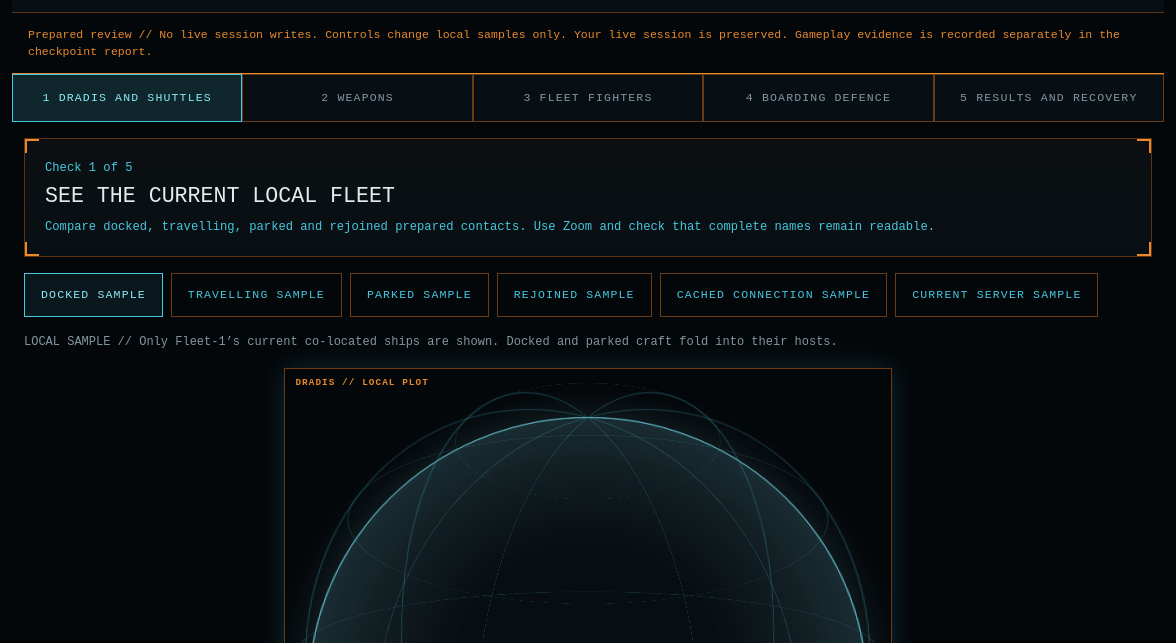
Test case: uses the real range presenter for local use, target assignment and damaged-action denial
Click the button "2 Weapons" at [358, 98], box [242,74,473,122]
(page scrolled)
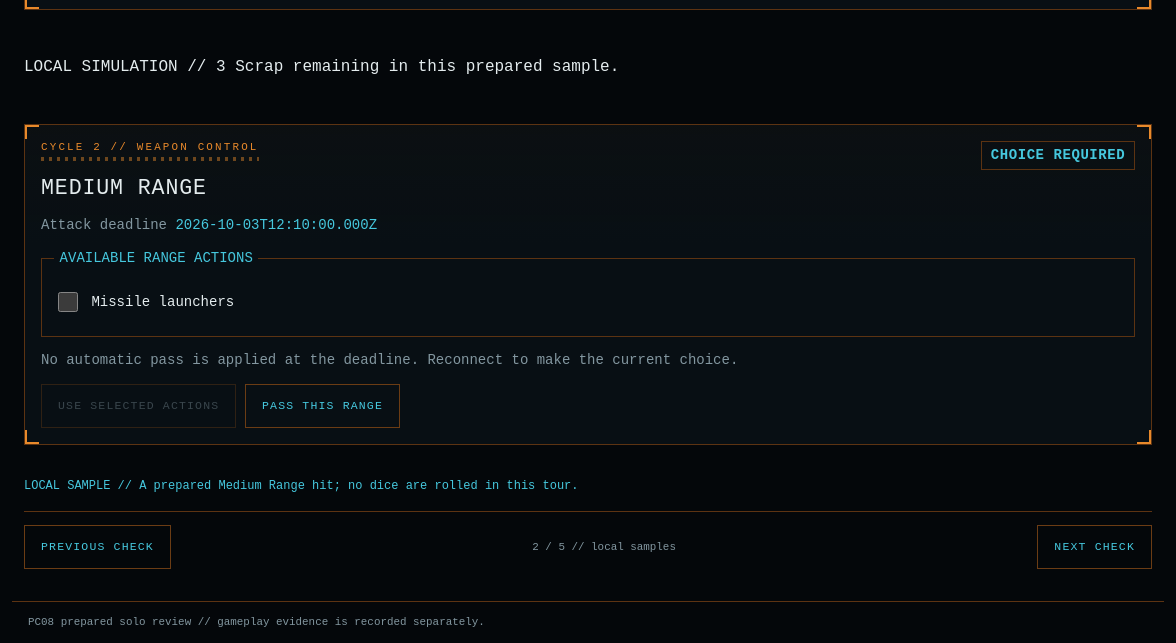
Click the checkbox labelled "Missile launchers" at [68, 302], box [58,292,78,312]
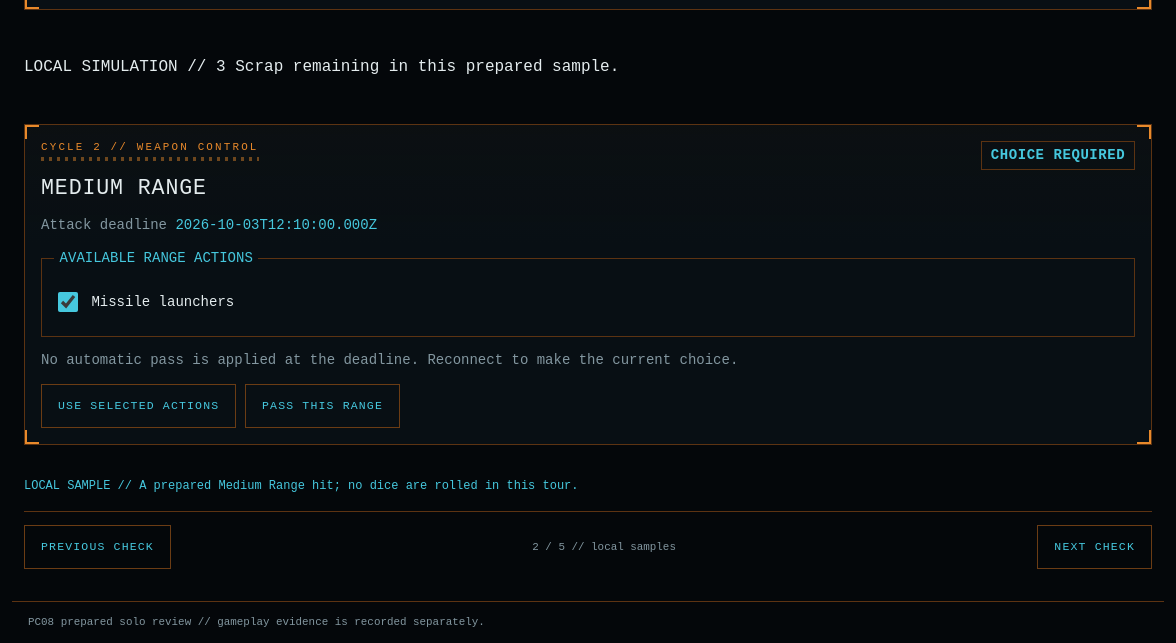
Click the button "Use selected actions" at [139, 406], box [41,384,236,428]
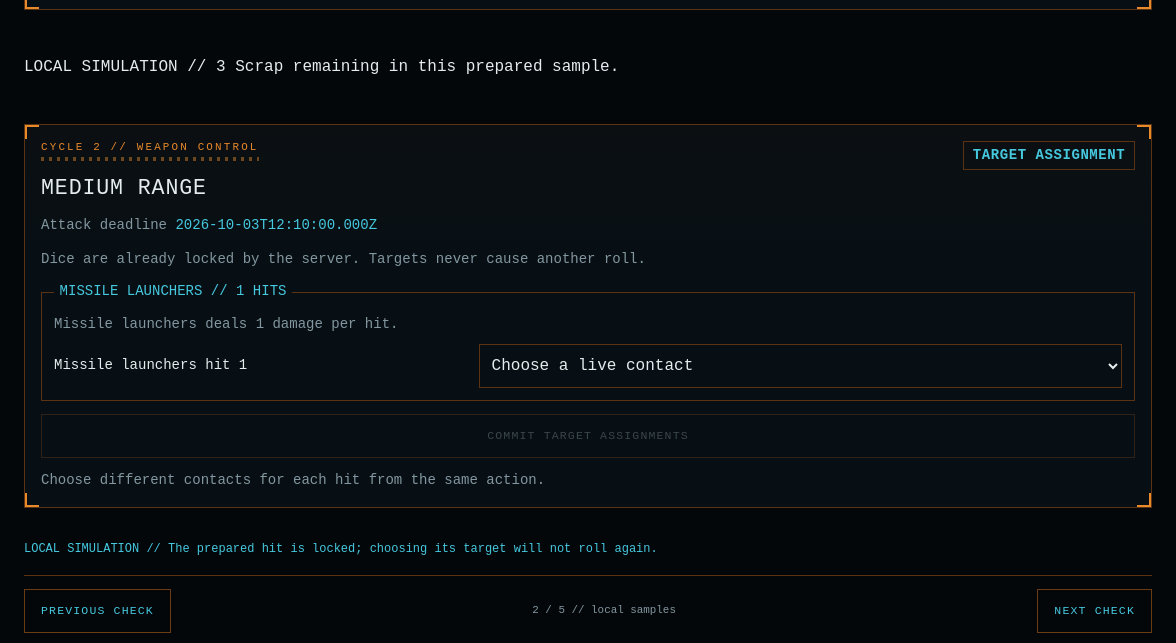
Select "local-contact-1 — AEGIS" in the dropdown labelled "Missile launchers hit 1" at [800, 366], box [479,344,1122,388]
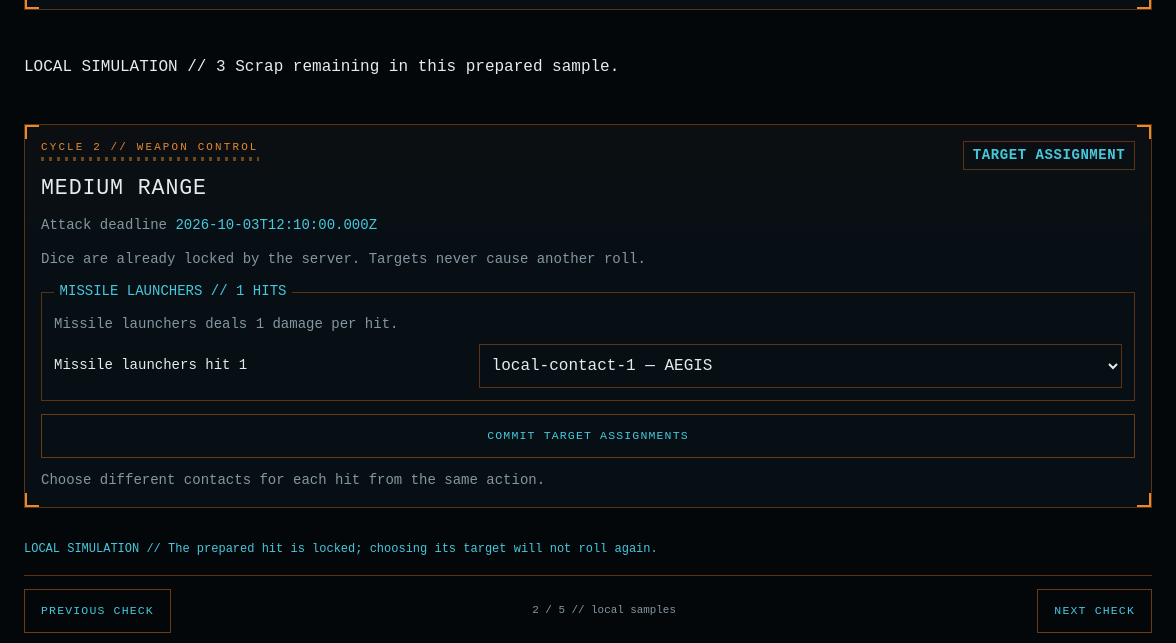
Click the button "Commit target assignments" at [588, 436], box [41,414,1135,458]
(page scrolled)
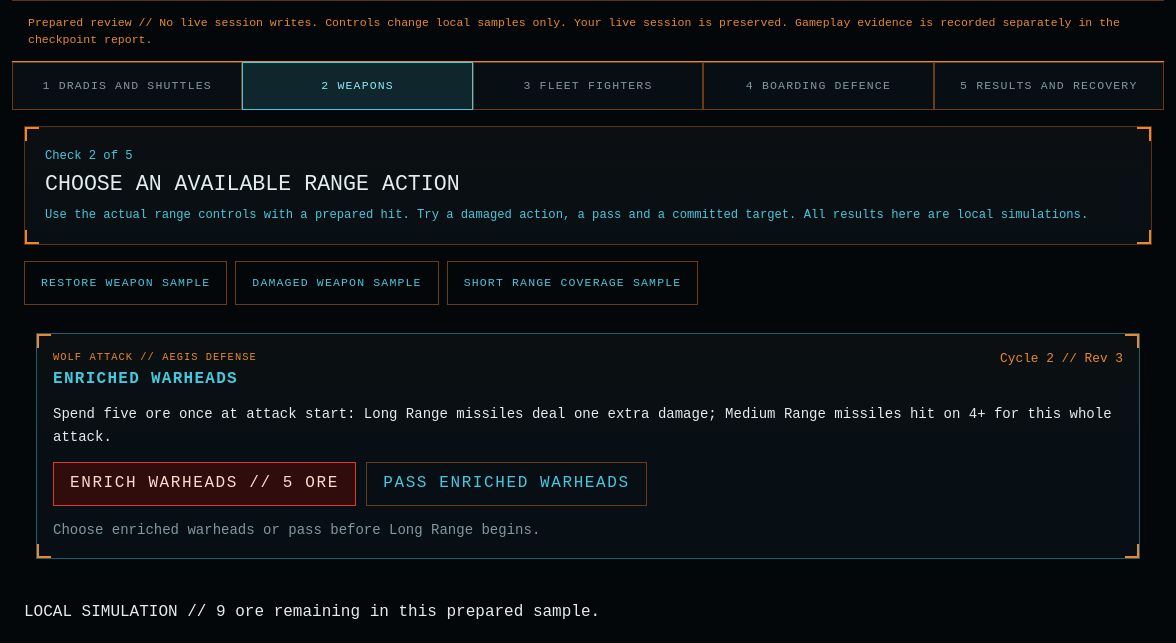
Click the button "Damaged weapon sample" at [337, 283], box [235,261,439,305]
(page scrolled)
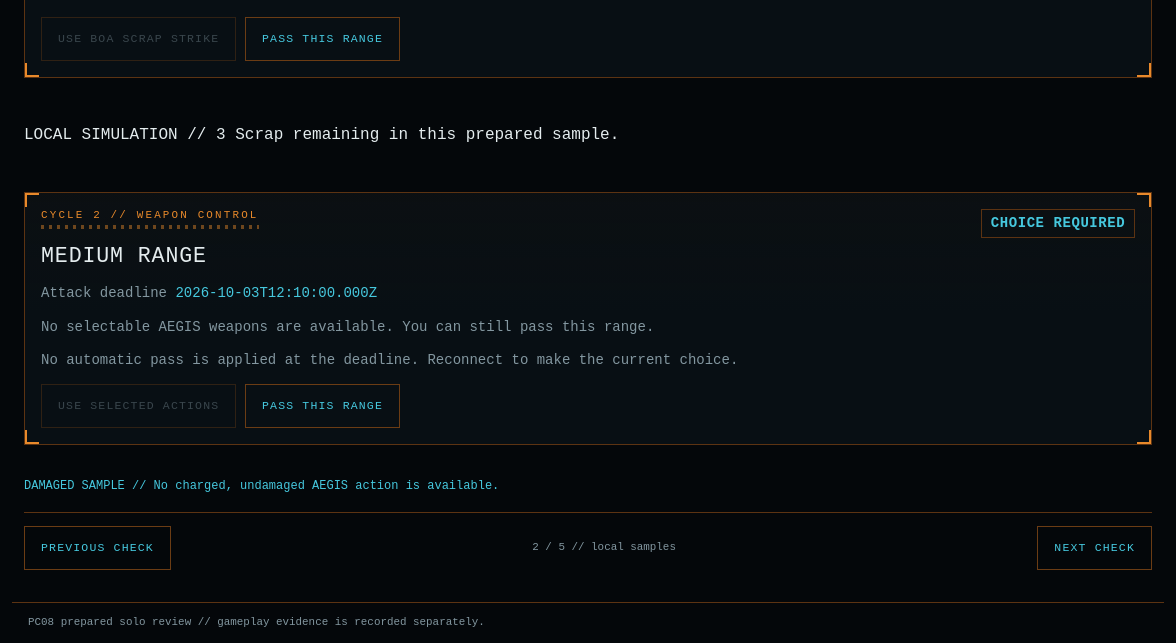
Check: the text "Missile launchers" is not shown
Check: the button "Use selected actions" is disabled, box [41,384,236,428]
